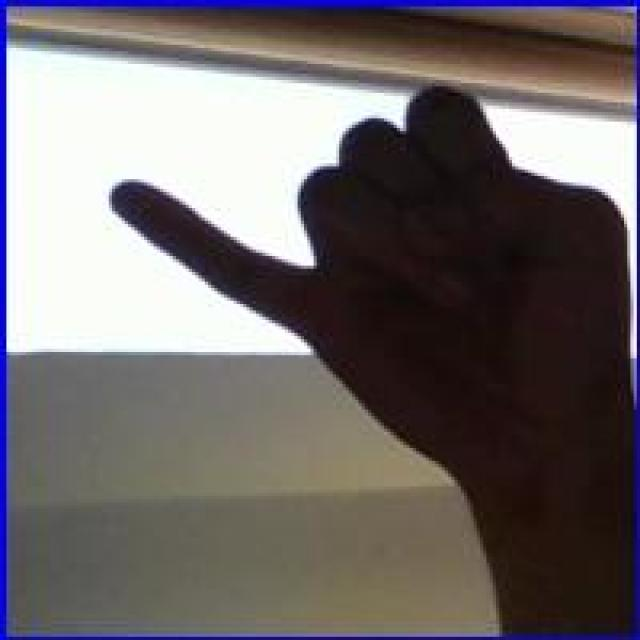J: (97, 75, 638, 485)
